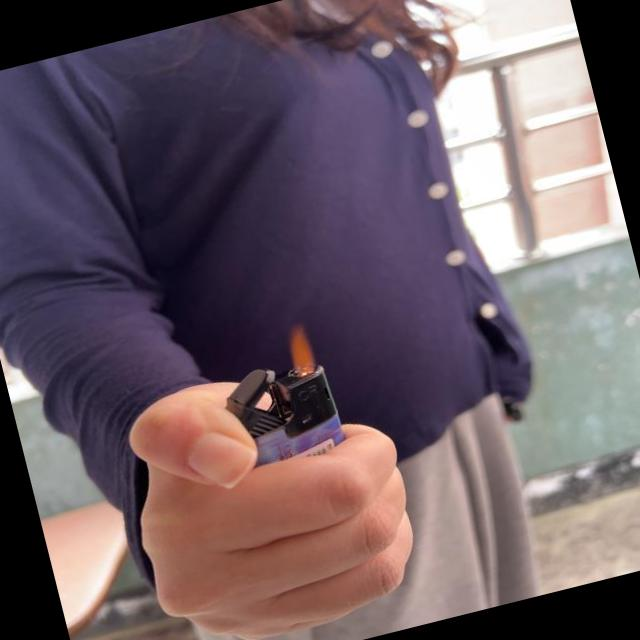Fire: (280, 319, 318, 381)
